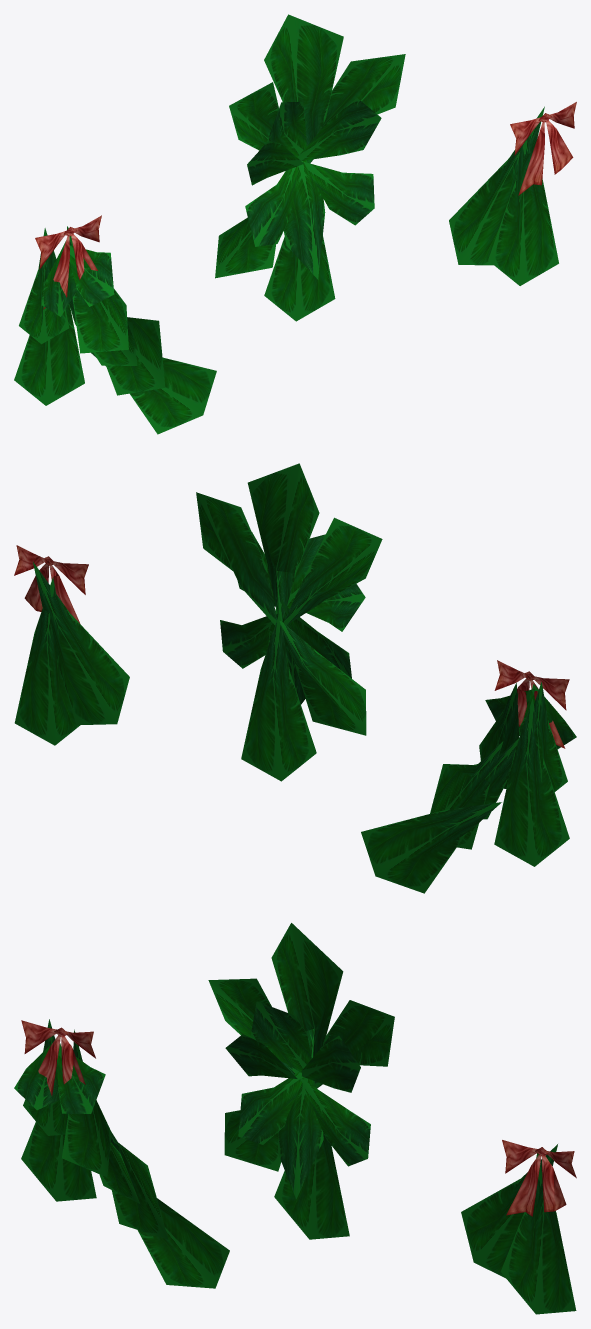
The model's file is pir_m_prp_hol_decoGarland_winter08.fbx.
3 renders of one model, top to bottom at view 1: azimuth 30°, elevation 25°; view 2: azimuth 150°, elevation 25°; view 3: azimuth 330°, elevation 25°, orthographic.
Parts seen in each view (by area): view 1: pasted__polySurface32, pasted__polySurface40, pasted__polySurface38, pasted__polySurface39, pasted__polySurface37, pasted__polySurface22, pasted__polySurface31, pasted__pasted__polySurface9, pasted__polySurface34, pasted__polySurface23, pasted__pasted__polySurface1, pasted__pasted__polySurface3 (+11 smaller); view 2: pasted__polySurface22, pasted__polySurface37, pasted__polySurface39, pasted__polySurface38, pasted__polySurface32, pasted__polySurface40, pasted__polySurface31, pasted__polySurface33, pasted__polySurface24, pasted__polySurface23, pasted__polySurface30.001, pasted__pasted__polySurface3 (+9 smaller); view 3: pasted__polySurface40, pasted__polySurface32, pasted__polySurface37, pasted__polySurface22, pasted__polySurface38, pasted__polySurface39, pasted__polySurface31, pasted__pasted__polySurface9, pasted__polySurface30.001, pasted__pasted__polySurface3, pasted__pasted__polySurface4, pasted__polySurface34 (+11 smaller).
Boxes of the visible parts, x1,y1,x2,y2 form: pasted__polySurface32: (264,14,343,161); pasted__polySurface40: (488,136,558,285); pasted__polySurface38: (449,106,544,265); pasted__polySurface39: (14,250,84,405); pasted__polySurface37: (91,352,216,434); pasted__polySurface22: (264,235,335,321); pasted__polySurface31: (308,54,405,163); pasted__pasted__polySurface9: (284,160,325,279); pasted__polySurface34: (67,226,128,353); pasted__polySurface23: (106,317,165,395); pasted__pasted__polySurface1: (297,98,381,160); pasted__pasted__polySurface3: (304,162,374,225); pasted__polySurface22: (241,614,316,781); pasted__polySurface37: (361,802,501,893); pasted__polySurface39: (494,698,569,866); pasted__polySurface38: (33,562,129,725); pasted__polySurface32: (247,463,319,621); pasted__polySurface40: (14,577,80,745); pasted__polySurface31: (196,492,276,625); pasted__polySurface33: (283,517,382,625); pasted__polySurface24: (279,621,366,735); pasted__polySurface23: (430,741,503,849); pasted__polySurface30.001: (14,545,88,623); pasted__pasted__polySurface3: (220,616,272,668); pasted__polySurface40: (500,1153,576,1314); pasted__polySurface32: (271,923,343,1058); pasted__polySurface37: (137,1198,229,1288); pasted__polySurface22: (274,1133,349,1239); pasted__polySurface38: (461,1144,557,1278); pasted__polySurface39: (21,1043,96,1201); pasted__polySurface31: (314,1000,394,1088); pasted__pasted__polySurface9: (277,1077,323,1199); pasted__polySurface30.001: (502,1140,576,1216); pasted__pasted__polySurface3: (300,1077,370,1166); pasted__pasted__polySurface4: (238,1071,304,1144); pasted__polySurface34: (62,1029,111,1177).
Bounding box in the file's own units: 875 × 590 × 56.6.
2 materials, 2 textured.
